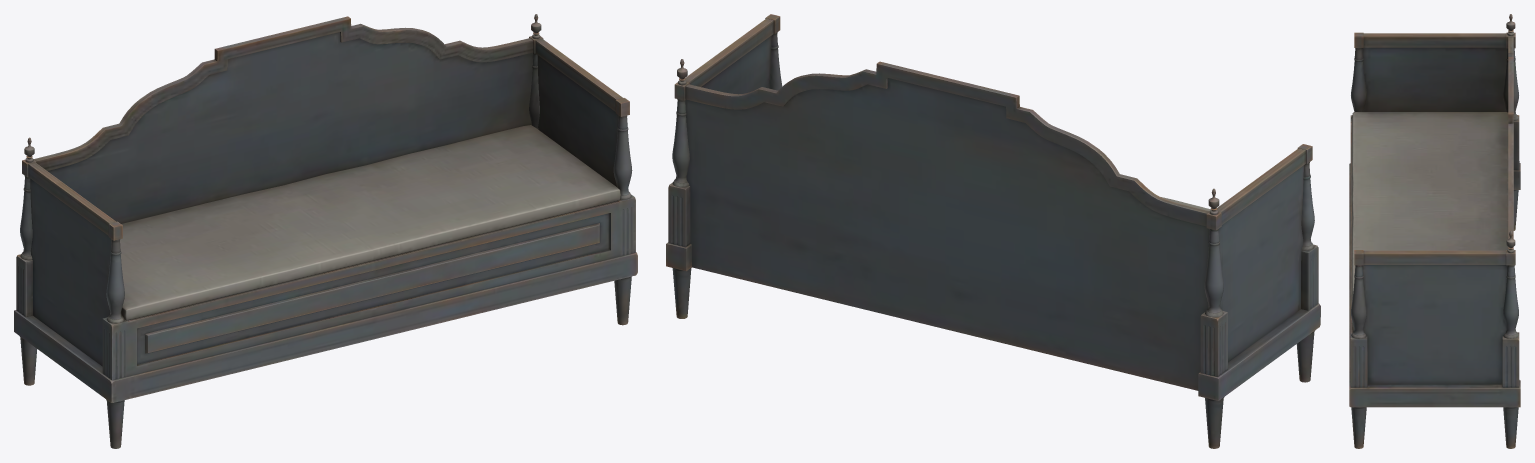
The model's file is ph-painted_wooden_sofa.glb.
The picture shows the model from 3 angles, left to right: view 1: azimuth 30°, elevation 25°; view 2: azimuth 150°, elevation 25°; view 3: azimuth 270°, elevation 25°; orthographic projection. The views are drawn at different scales.
Parts seen in each view (by area): view 1: painted_wooden_sofa; view 2: painted_wooden_sofa; view 3: painted_wooden_sofa.
Part boxes in pixels (box(x1,y1,x2,y2)): painted_wooden_sofa: box(14, 14, 637, 448); painted_wooden_sofa: box(666, 14, 1320, 448); painted_wooden_sofa: box(1349, 14, 1520, 448).
Bounding box in the file's own units: 1 × 0.5226 × 0.3211.
1 material, 1 textured.
